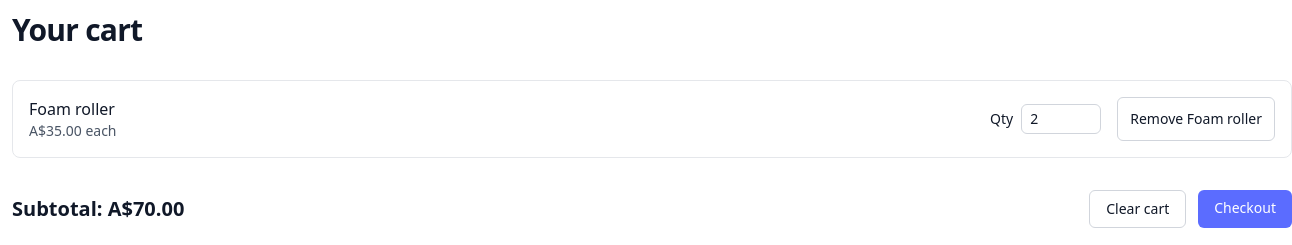
Scenario: CartView › removes items and shows the empty state
Click the button "Remove Foam roller" at (1196, 119), box [1117,97,1275,141]
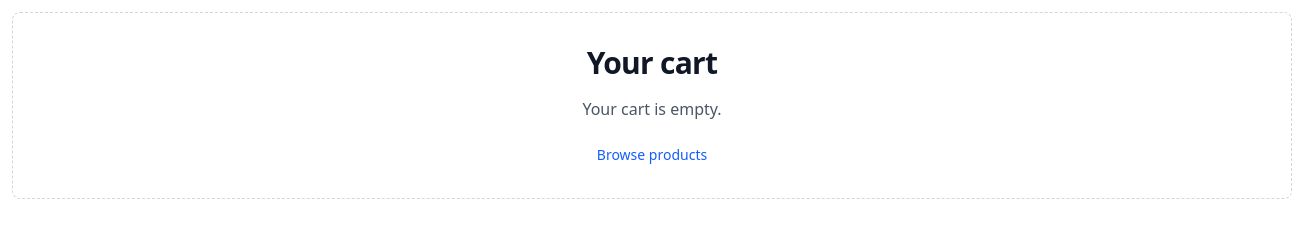
Result: the text "Your cart is empty." is shown at [582,98,722,120]
